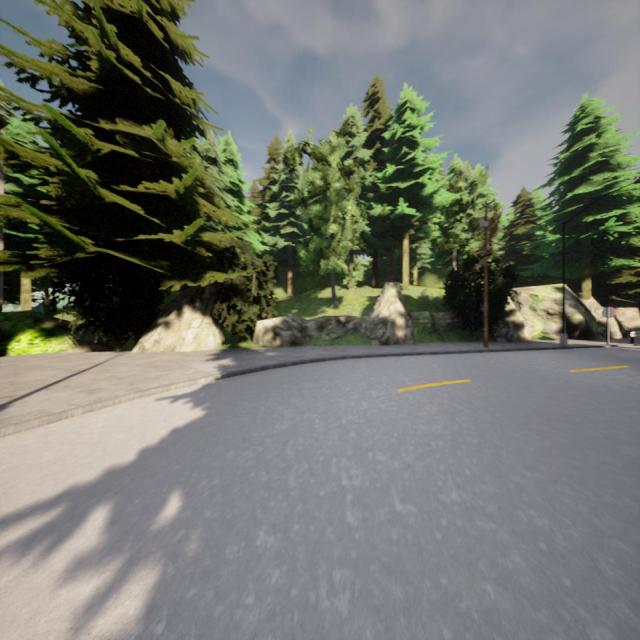Traffic_Signs: (602, 306, 616, 318)
